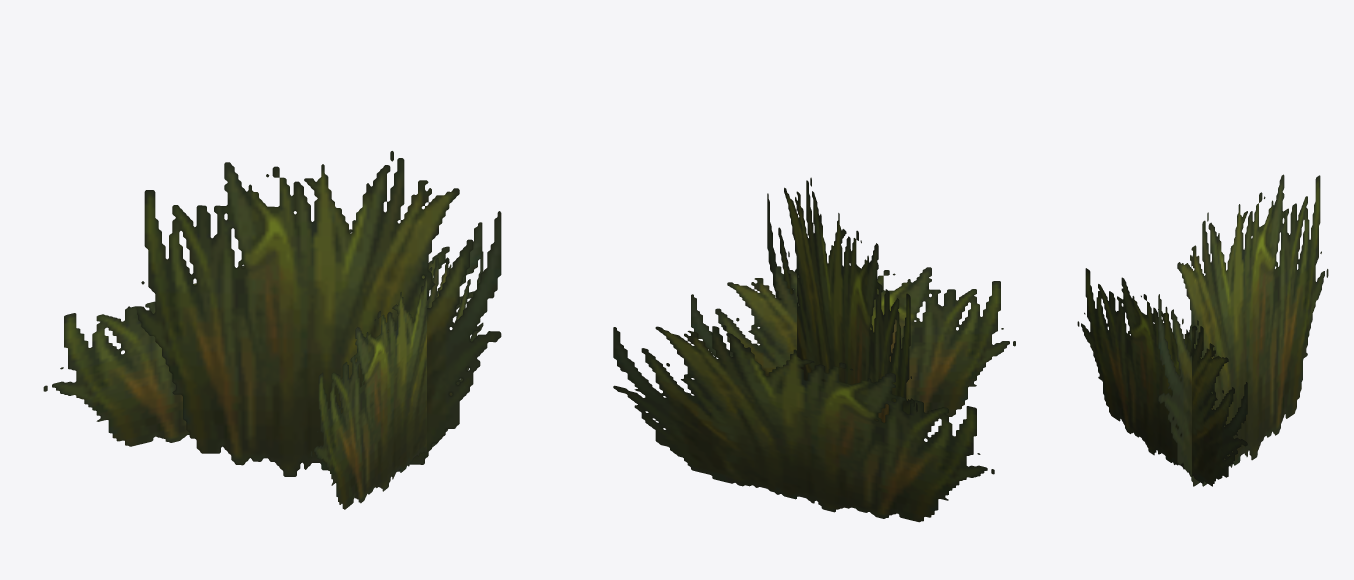
File: town_grass01.fbx
The picture shows the model from 3 angles, left to right: view 1: azimuth 30°, elevation 25°; view 2: azimuth 150°, elevation 25°; view 3: azimuth 270°, elevation 25°; orthographic projection. The views are drawn at different scales.
Parts seen in each view (by area): view 1: town_layout_grass01; view 2: town_layout_grass01; view 3: town_layout_grass01.
Part boxes in pixels (x1=…): town_layout_grass01: x1=43, y1=151, x2=501, y2=509; town_layout_grass01: x1=613, y1=177, x2=1015, y2=522; town_layout_grass01: x1=1077, y1=174, x2=1328, y2=486.
Bounding box in the file's own units: 1.33 × 1.15 × 0.7198.
